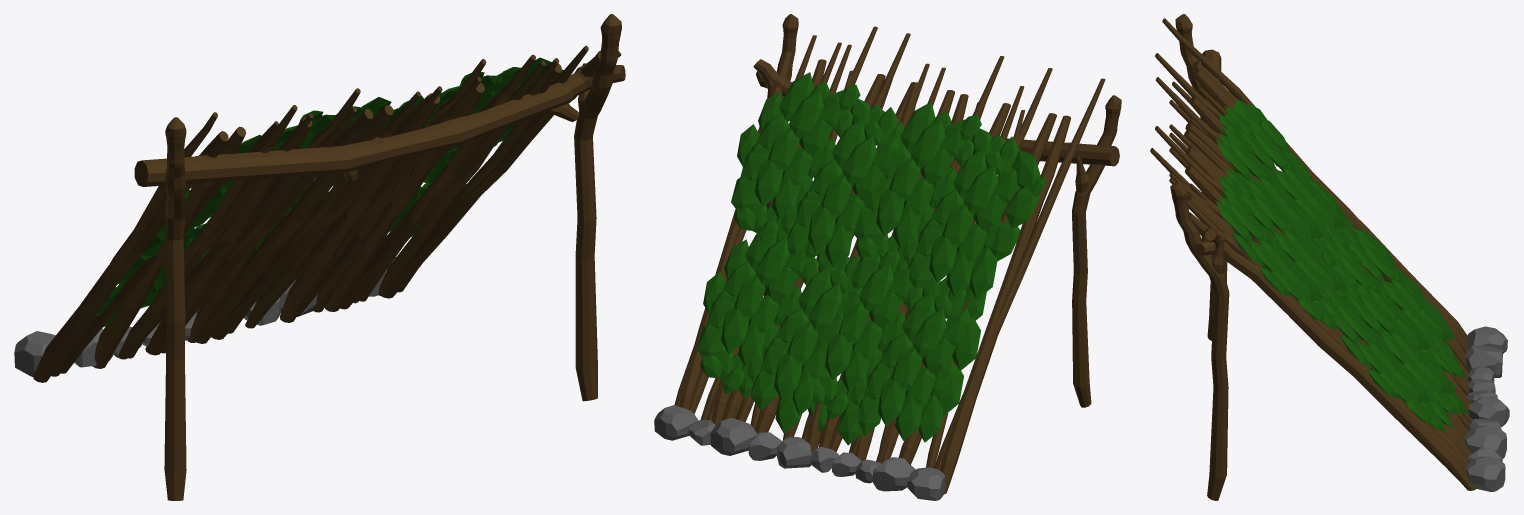
Rendered from shelter.FBX.
The picture shows the model from 3 angles, left to right: view 1: azimuth 30°, elevation 25°; view 2: azimuth 150°, elevation 25°; view 3: azimuth 270°, elevation 25°; orthographic projection. The views are drawn at different scales.
Parts seen in each view (by area): view 1: Shelter_01_Leaves_mesh; view 2: Shelter_01_Leaves_mesh; view 3: Shelter_01_Leaves_mesh.
Part boxes in pixels (left/top/right/bottom): Shelter_01_Leaves_mesh: left=14, top=14, right=625, bottom=500; Shelter_01_Leaves_mesh: left=654, top=14, right=1121, bottom=500; Shelter_01_Leaves_mesh: left=1150, top=14, right=1509, bottom=500.
Bounding box in the file's own units: 326 × 268 × 266.
